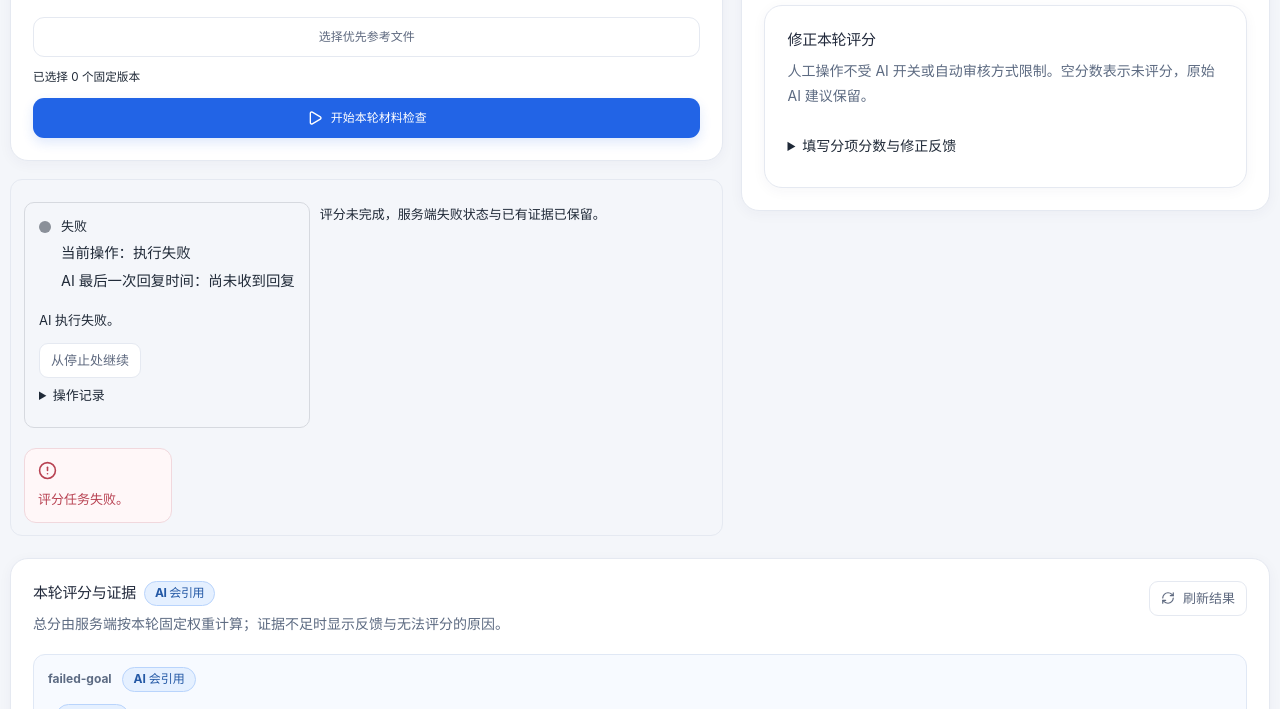
Test case: keeps a retry response attached to its originating record after selection changes
The image size is (1280, 709).
(page scrolled)
Click the button "从停止处继续". click: coordinates (90, 360)
box: [39,343,141,378]
(page scrolled)
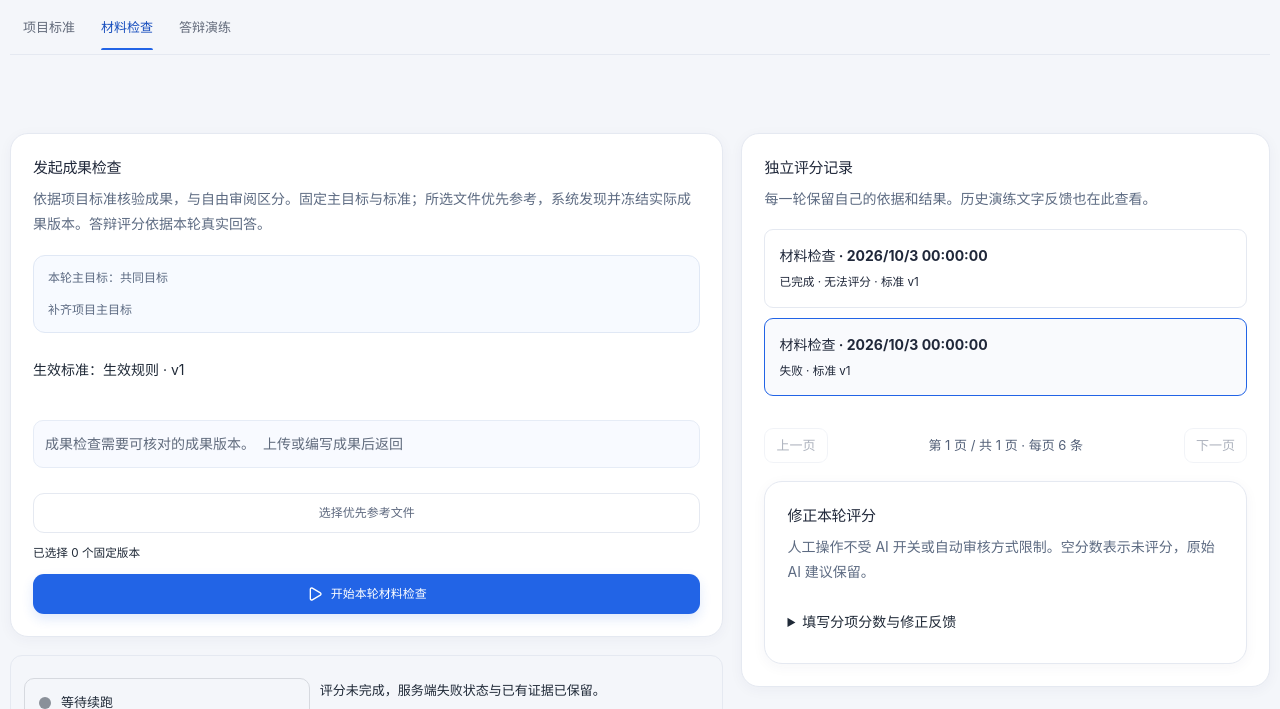
Click the button "材料检查 · 2026/10/3 00:00:00 已完成 · 无法评分 · 标准 v1". click: coordinates (807, 256)
box: [764,229,1247,308]
(page scrolled)
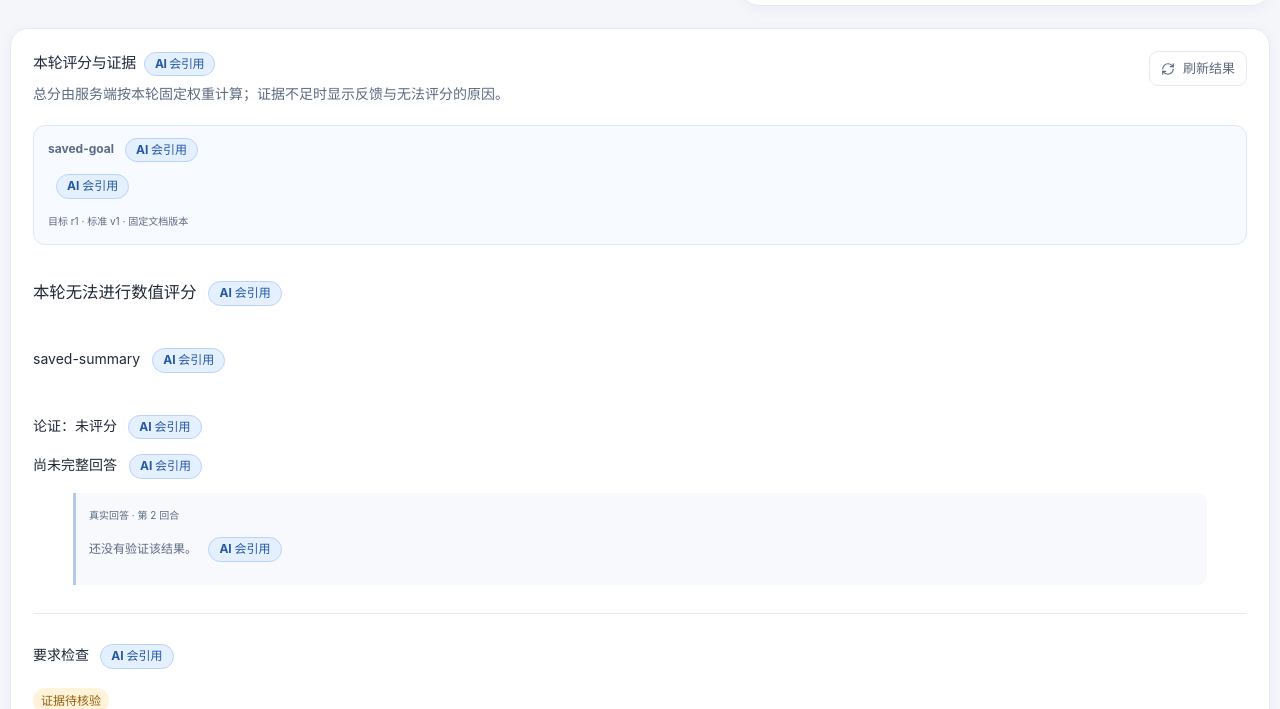
Expected: the button "从停止处继续" is not shown
Expected: the text "saved-summary" is shown, [33,350,140,367]
